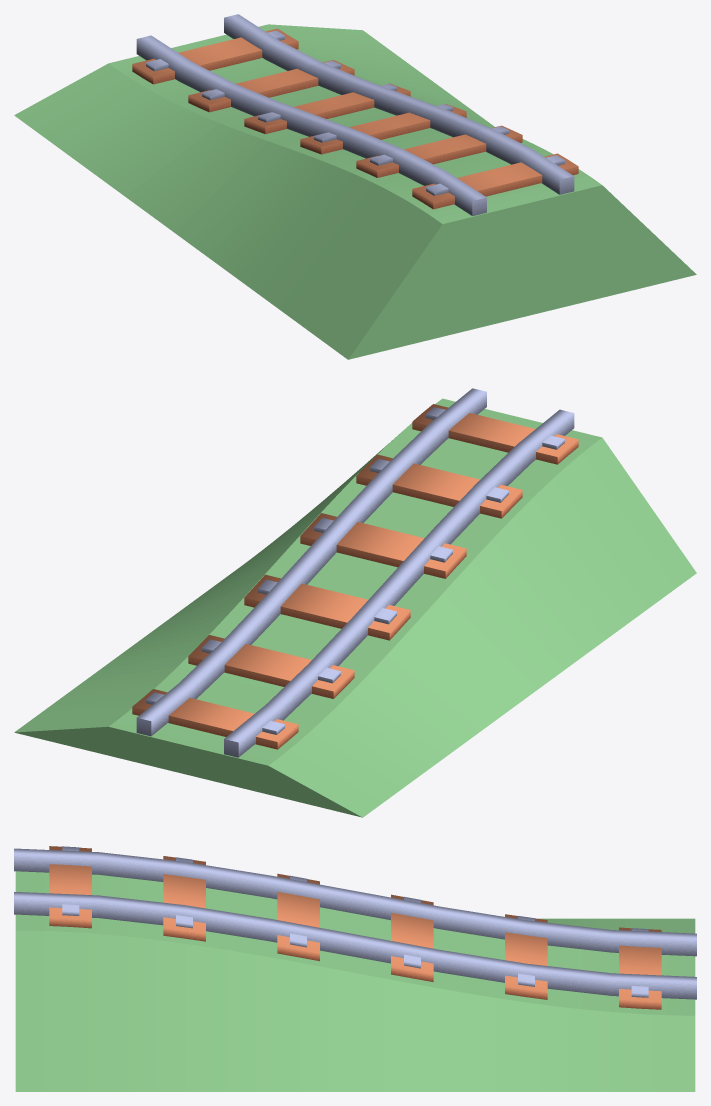
The model's file is hill-bump-down.glb.
3 views of the same model, one above another, from view 1: azimuth 30°, elevation 25°; view 2: azimuth 150°, elevation 25°; view 3: azimuth 270°, elevation 25° (orthographic).
Parts seen in each view (by area): view 1: bump_down_mound, bump_down_rails; view 2: bump_down_mound, bump_down_rails; view 3: bump_down_mound, bump_down_rails.
Boxes of the visible parts, bbox=[...] form: bump_down_mound: bbox=[14, 24, 696, 359]; bump_down_rails: bbox=[132, 14, 578, 215]; bump_down_mound: bbox=[14, 398, 696, 817]; bump_down_rails: bbox=[132, 388, 578, 757]; bump_down_mound: bbox=[15, 871, 695, 1091]; bump_down_rails: bbox=[14, 846, 696, 1009].
Bounding box in the file's own units: 2.4 × 0.85 × 4.
2 materials, 1 textured.
